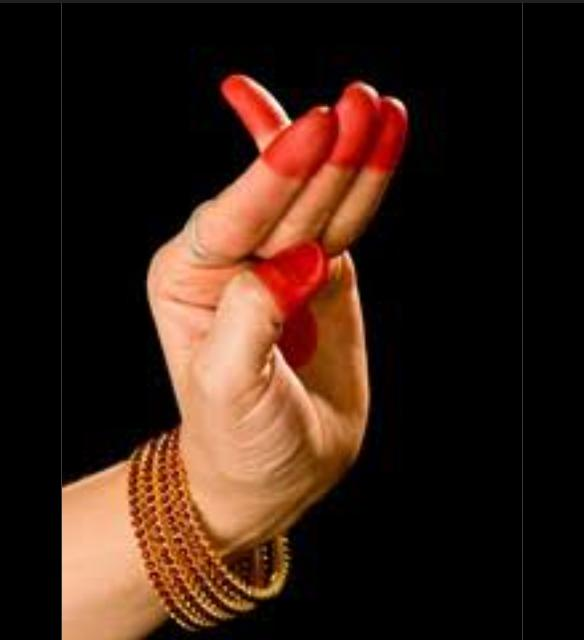chatur: (95, 49, 473, 576)
